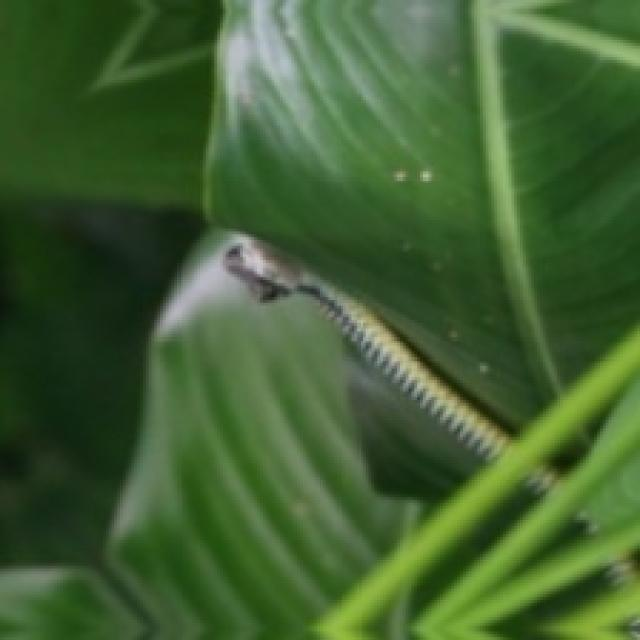paradise tree snake: (223, 240, 637, 637)
